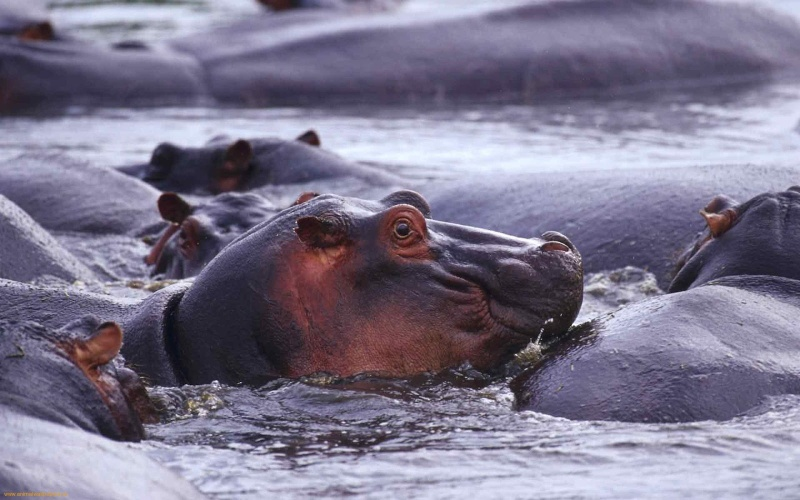hipopotamo: (1, 185, 589, 390), (562, 185, 800, 436), (1, 311, 168, 500)
